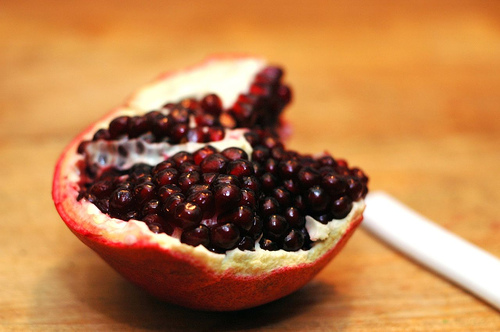pomogranate: (52, 54, 371, 311)
